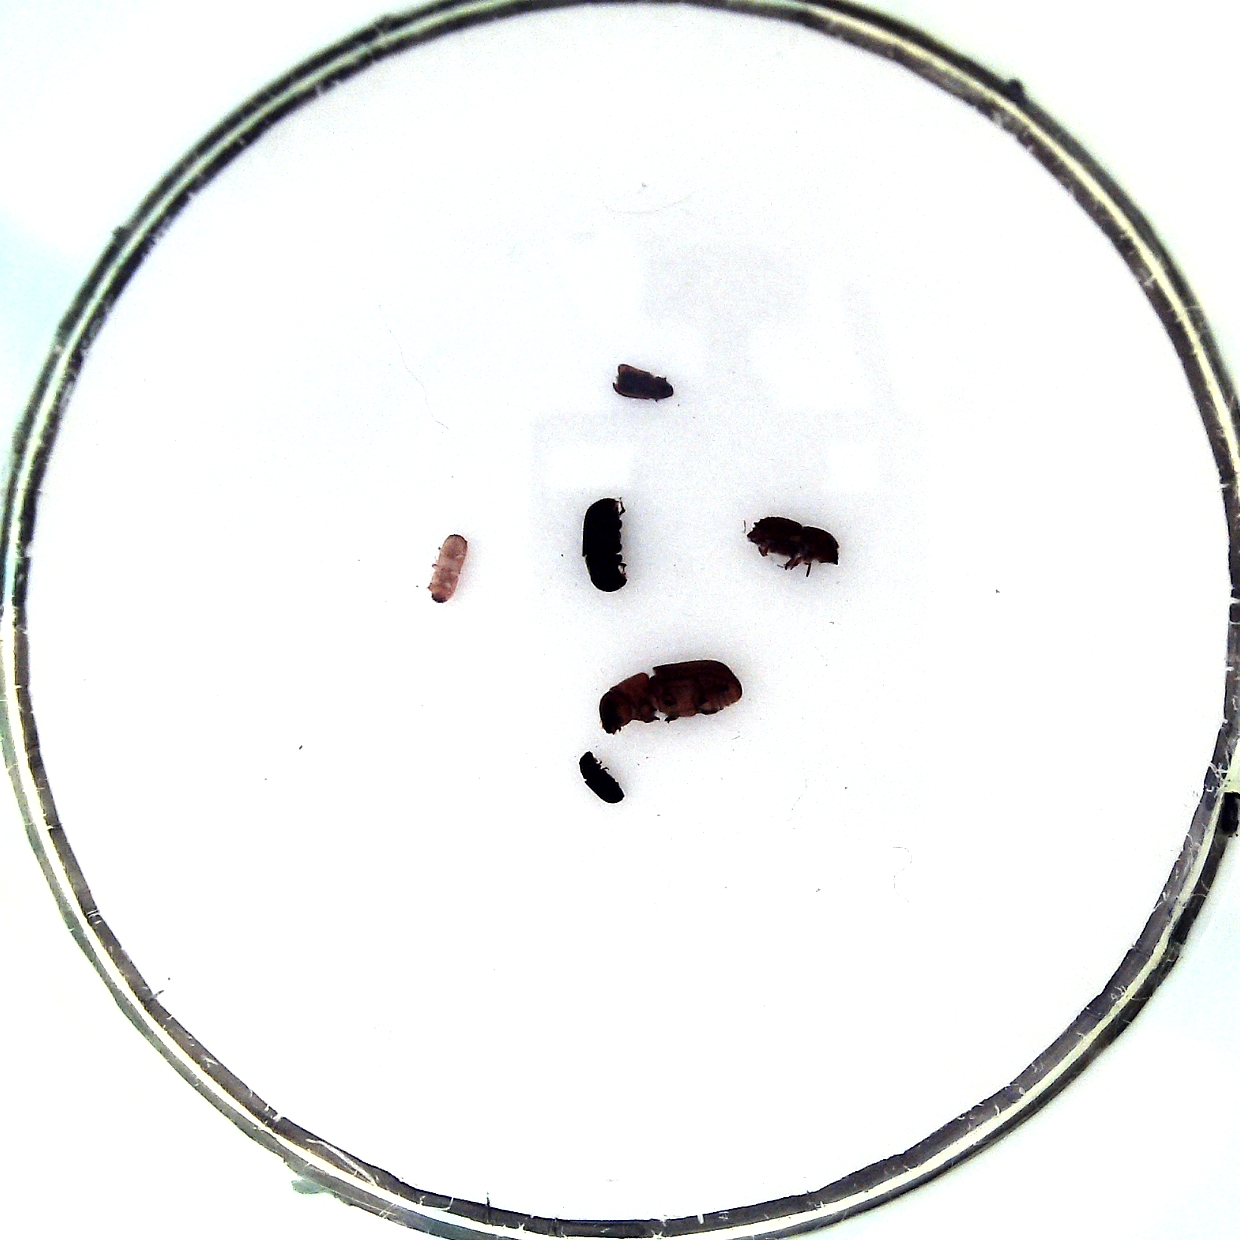Leconte: (598, 660, 742, 736)
acuminatus: (579, 749, 625, 804)
armandi: (583, 498, 629, 592)
coleoptera: (430, 535, 467, 603), (613, 362, 673, 401)
linnaeus: (748, 516, 840, 567)
